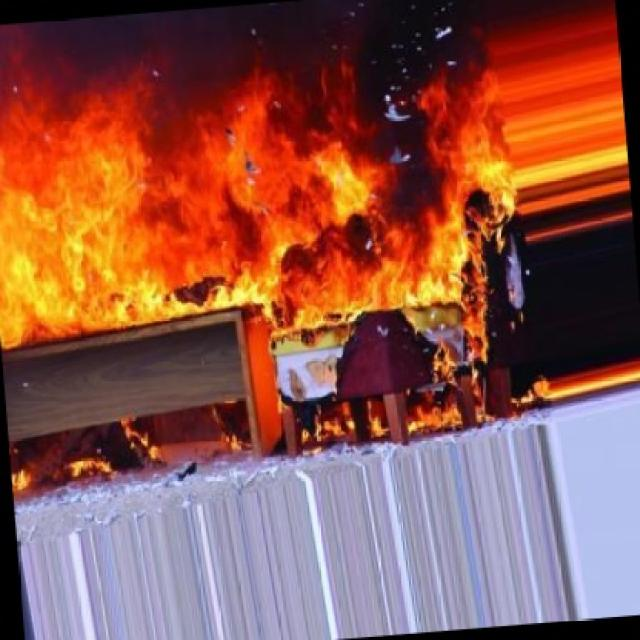fire: (0, 0, 598, 440)
